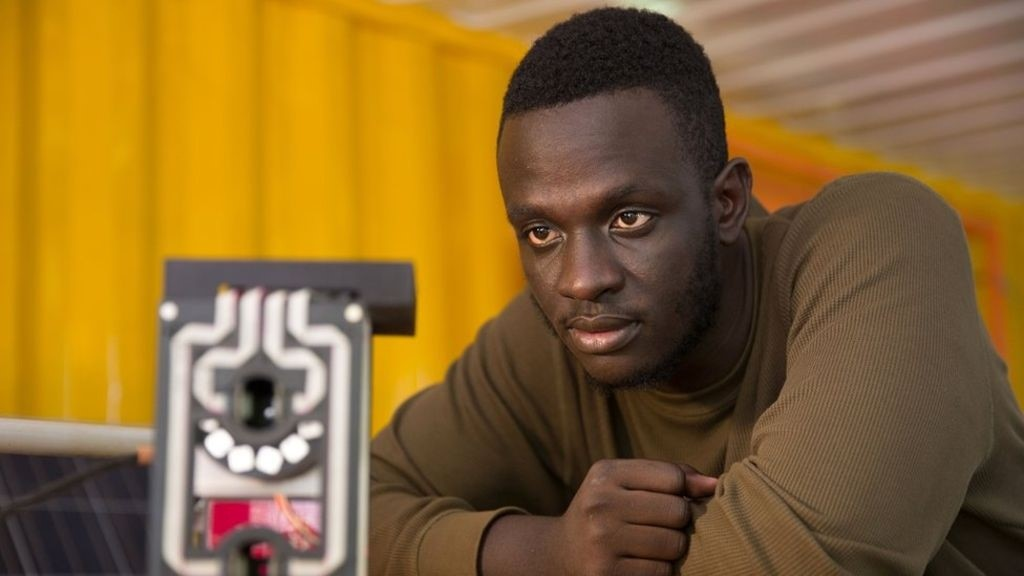face_no_mask: (496, 7, 750, 387)
